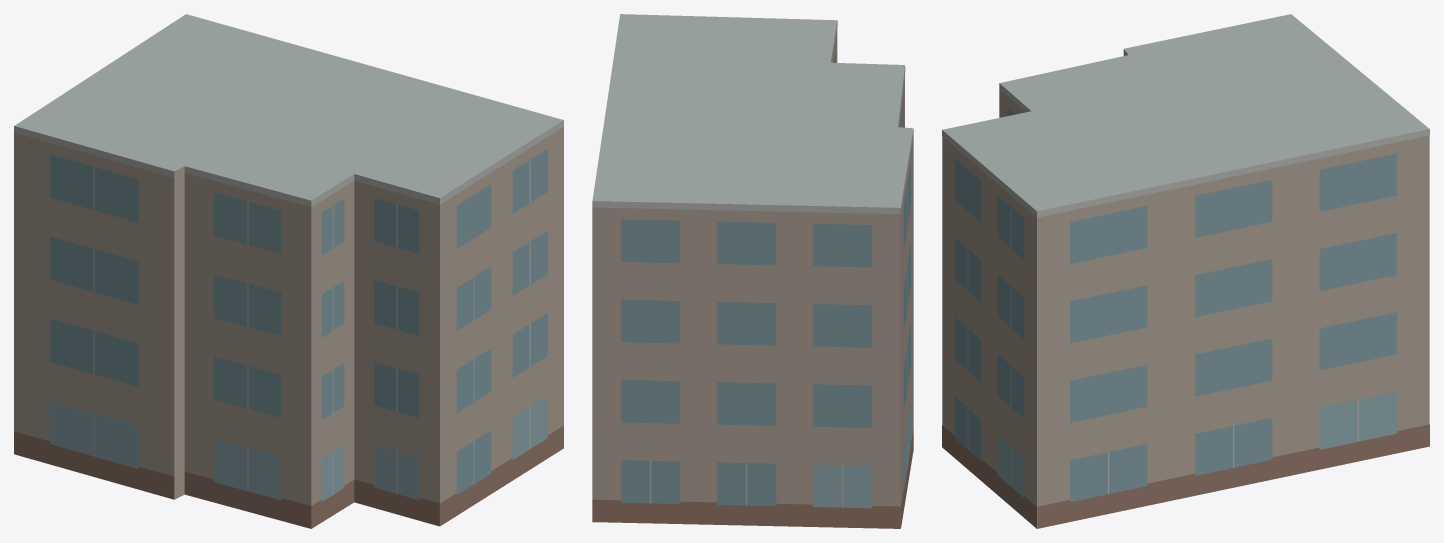
Rendered from survey-upis-32990386.glb.
3 renders of one model, left to right at view 1: azimuth 30°, elevation 25°; view 2: azimuth 150°, elevation 25°; view 3: azimuth 270°, elevation 25°, orthographic. The views are drawn at different scales.
Visible parts, largest first — view 1: survey-upis-32990386.tmp; view 2: survey-upis-32990386.tmp; view 3: survey-upis-32990386.tmp.
Boxes of the visible parts, bbox=[...] form: survey-upis-32990386.tmp: bbox=[14, 14, 563, 528]; survey-upis-32990386.tmp: bbox=[592, 14, 913, 528]; survey-upis-32990386.tmp: bbox=[942, 14, 1429, 528].
Size of the model in its own units: 16.23 by 12.16 by 16.94.
